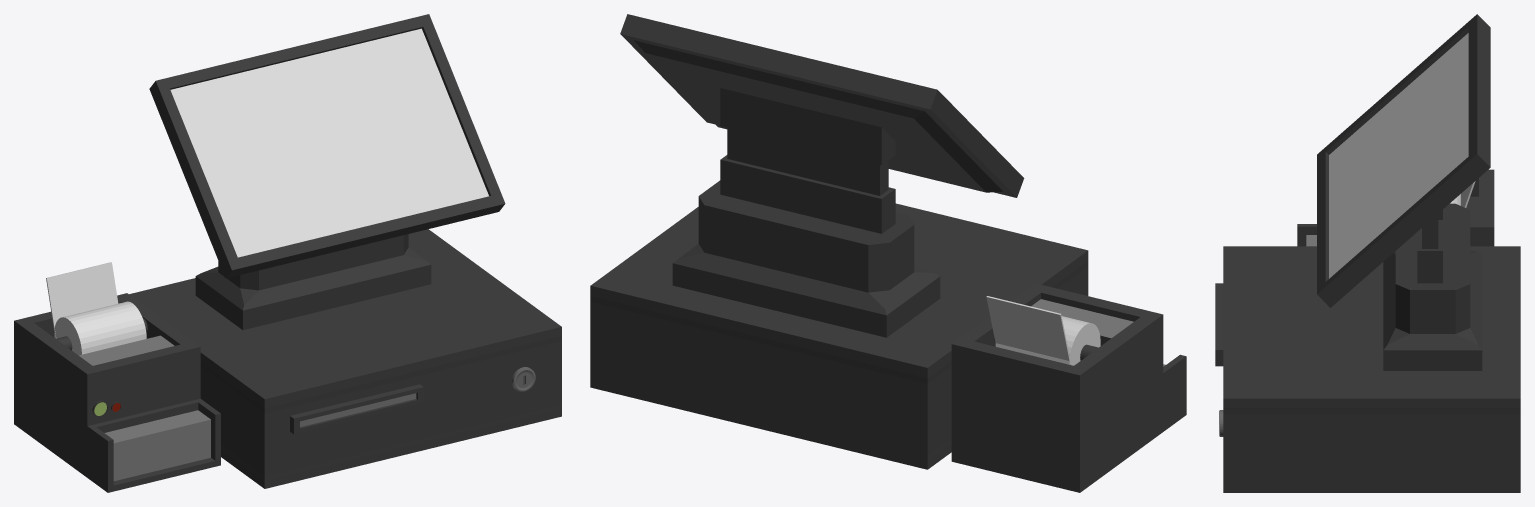
Rendered from Cash Register #2.fbx.
3 views of the same model, side by side, from view 1: azimuth 30°, elevation 25°; view 2: azimuth 150°, elevation 25°; view 3: azimuth 270°, elevation 25° (orthographic). The views are drawn at different scales.
Visible parts, largest first — view 1: Cash Register #2; view 2: Cash Register #2; view 3: Cash Register #2.
Boxes of the visible parts, x1,y1,x2,y2 form: Cash Register #2: (14, 14, 561, 492); Cash Register #2: (590, 14, 1186, 492); Cash Register #2: (1215, 14, 1520, 492).
Bounding box in the file's own units: 75.18 × 54.37 × 45.23.
Materials: 2 (2 with a texture image).
